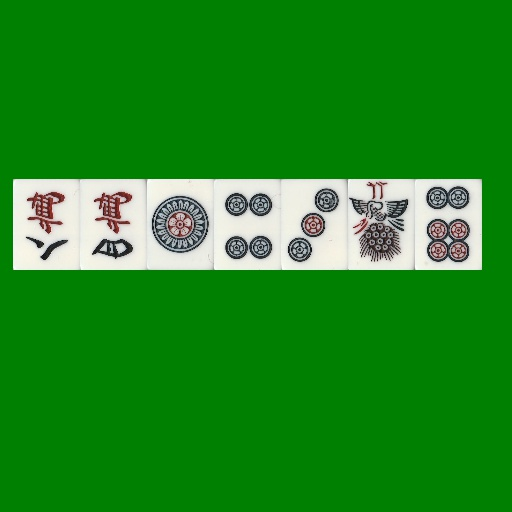1p: (147, 179, 214, 270)
1s: (348, 179, 415, 270)
3p: (281, 179, 348, 270)
4m: (80, 179, 147, 270)
4p: (214, 179, 281, 270)
6p: (415, 179, 482, 270)
8m: (13, 179, 80, 270)
